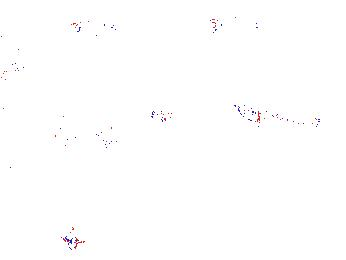X-ray fish: (45, 126, 77, 155), (95, 127, 120, 153), (67, 227, 81, 251)
glassfish: (232, 102, 321, 136), (148, 99, 181, 134)
red belly glassfish: (1, 62, 30, 80)
redtail glassfish: (205, 14, 272, 35), (67, 16, 131, 37)
